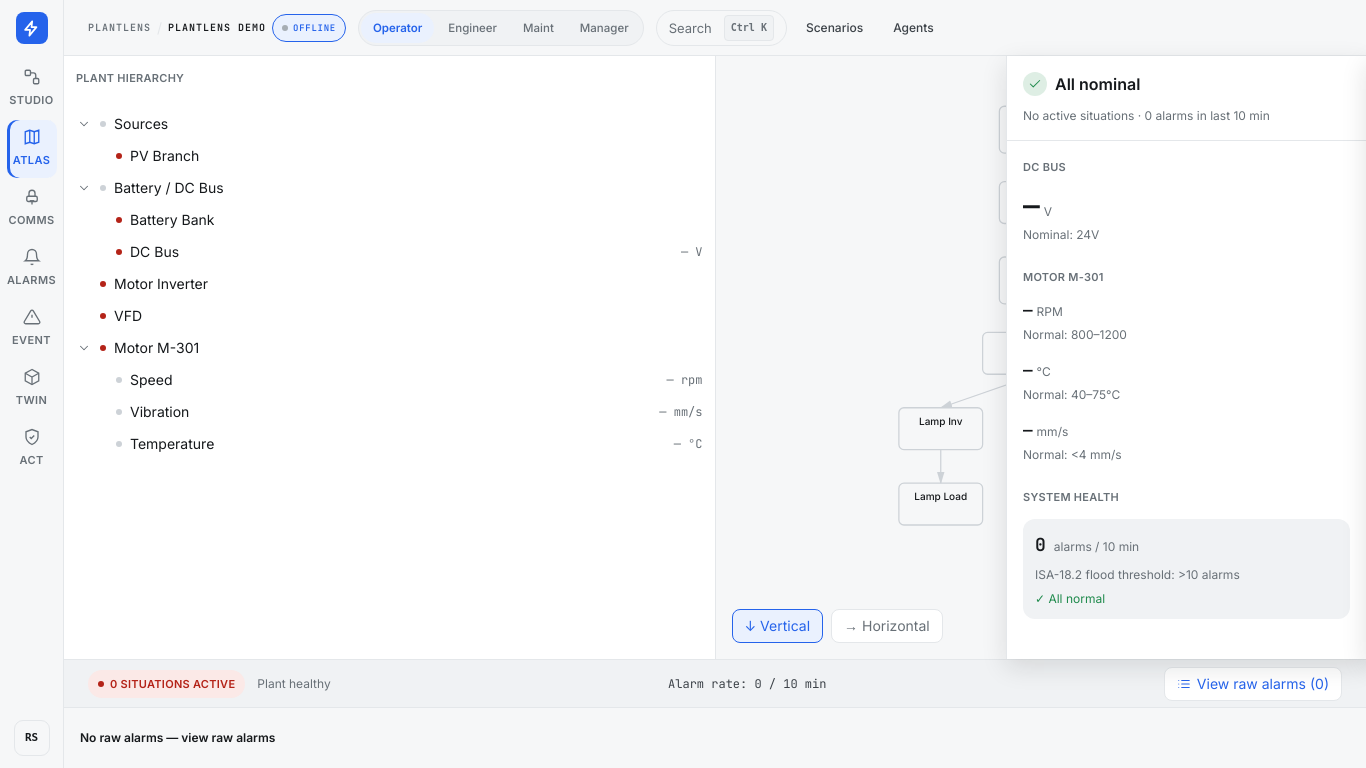
Test case: RuntimeHMI › navigates to COMMS connection screen
The image size is (1366, 768).
Check: the text "Plant hierarchy" is shown, box x1=76 y1=71 x2=184 y2=85
Click the button with aria-label "Connection" at (32, 209), box x1=6 y1=180 x2=56 y2=238
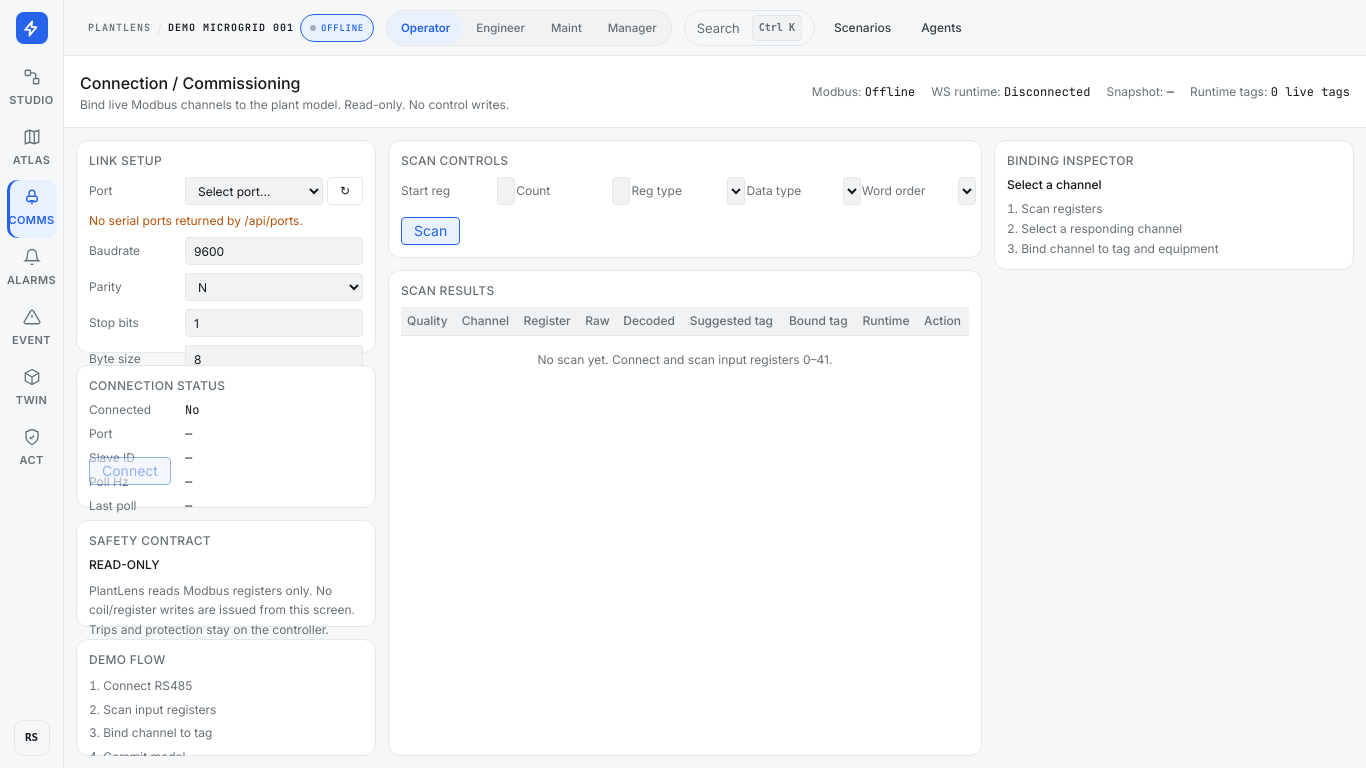
Check: the heading "Connection / Commissioning" is shown, box x1=80 y1=72 x2=300 y2=92
Check: the text "No control writes" is shown, box x1=80 y1=96 x2=509 y2=112
Check: the text "Plant hierarchy" is gone
